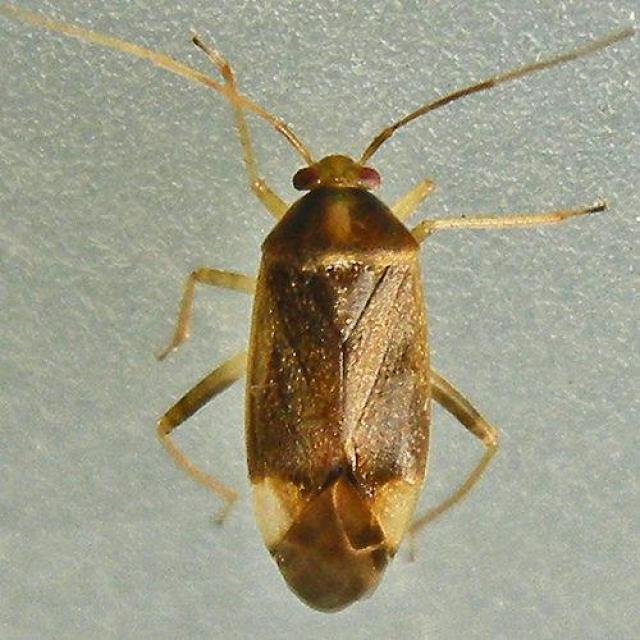Miridae-Adult-: (142, 17, 528, 615)
